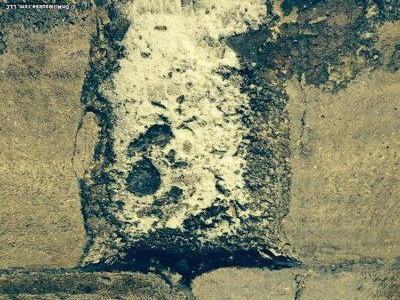pothole: (71, 0, 311, 284)
